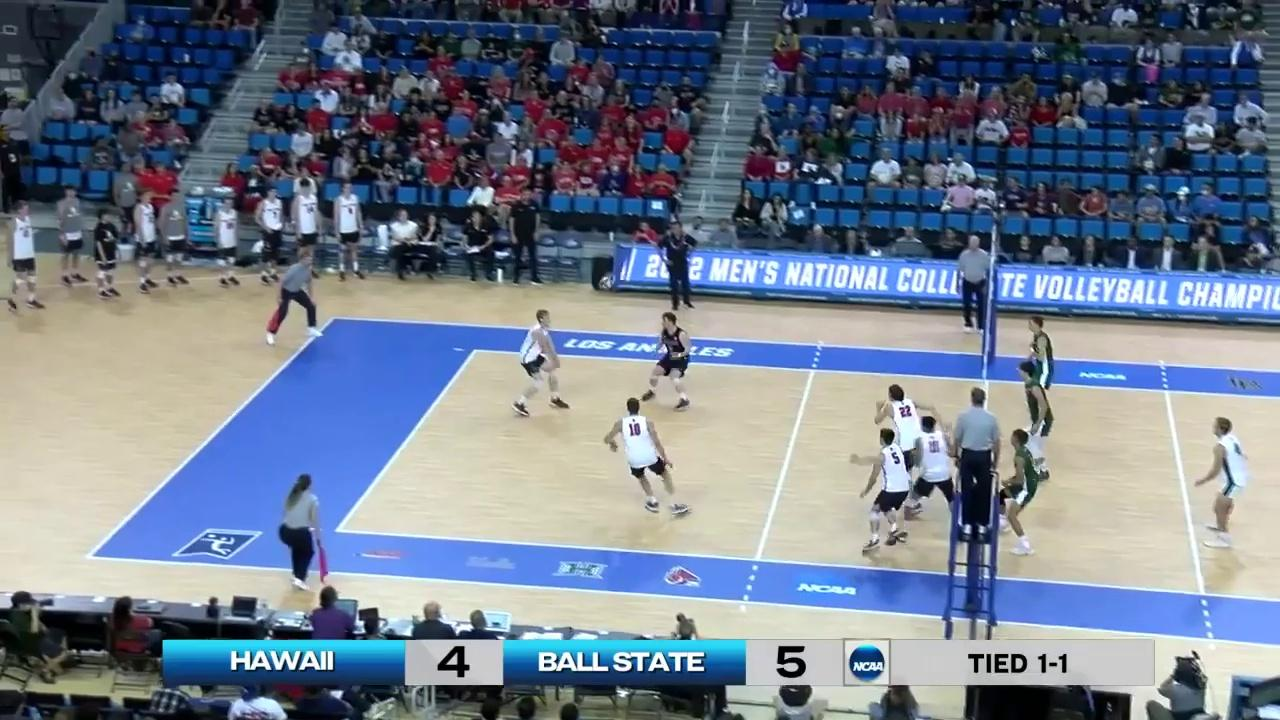player: (606, 396, 691, 515), (1194, 418, 1252, 551), (862, 428, 912, 554), (908, 417, 963, 531), (879, 385, 927, 510), (514, 310, 569, 415), (998, 430, 1043, 556), (642, 314, 694, 410), (1019, 363, 1053, 487), (1023, 317, 1057, 440)
refree: (956, 388, 1001, 541), (265, 244, 322, 345), (282, 478, 328, 591), (960, 235, 993, 334)
